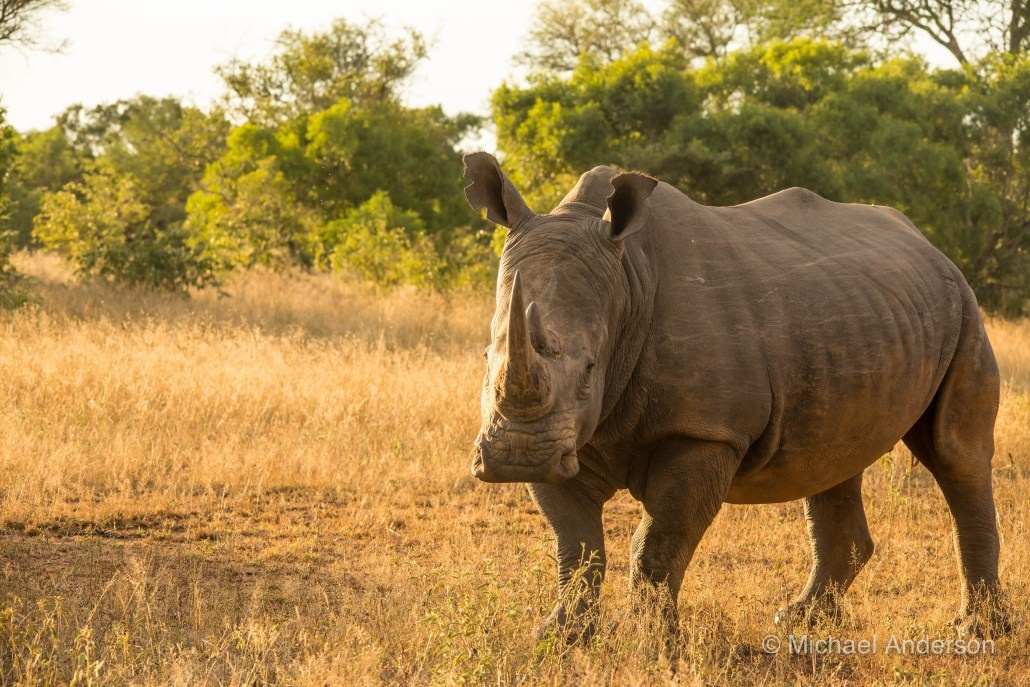rhino: (460, 149, 1018, 635)
